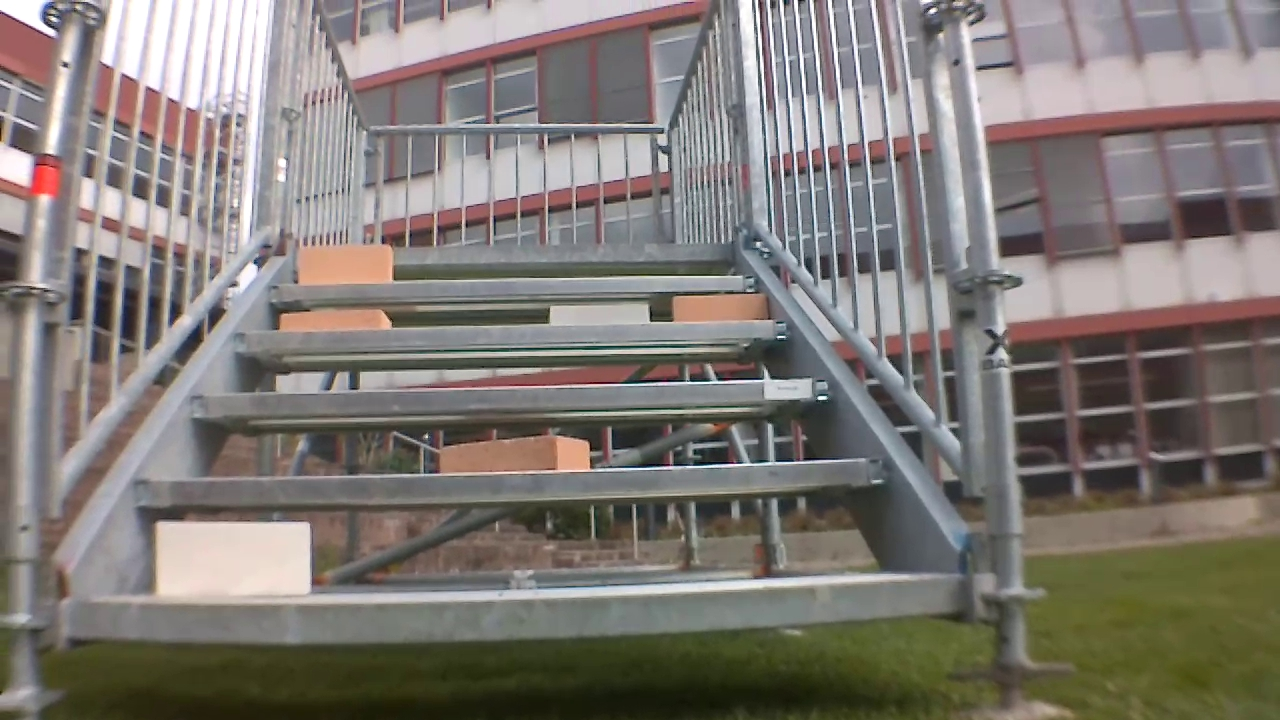brick: (156, 522, 310, 598), (439, 437, 589, 473), (299, 244, 392, 283), (674, 295, 768, 321), (549, 302, 649, 326), (279, 311, 392, 331)
edge: (69, 577, 956, 644), (138, 459, 891, 502), (192, 379, 833, 414), (233, 321, 791, 349), (270, 276, 756, 296), (291, 242, 735, 261)
stairs: (4, 3, 1041, 716)
steps: (62, 235, 964, 648)
